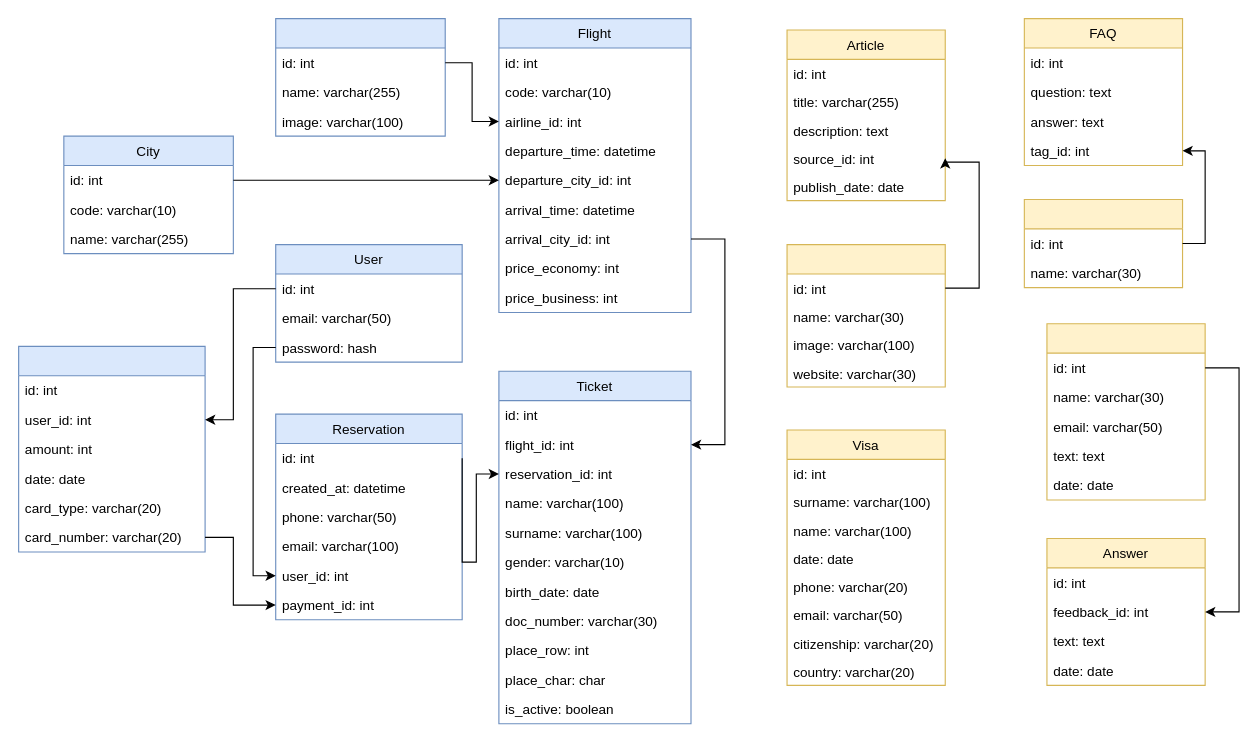
The diagram is 1258 pixels wide and 742 high, and some of its shapes have lost their labels. The shapes that lost their labels are listed below. From the top down, each one's box as (x1, y1, x2, y2) in pixels, then its label:
(275, 18, 445, 136): Airline
(1023, 198, 1183, 288): Tag
(786, 244, 945, 387): Source
(1046, 323, 1205, 500): Feedback
(18, 345, 205, 552): Payment
